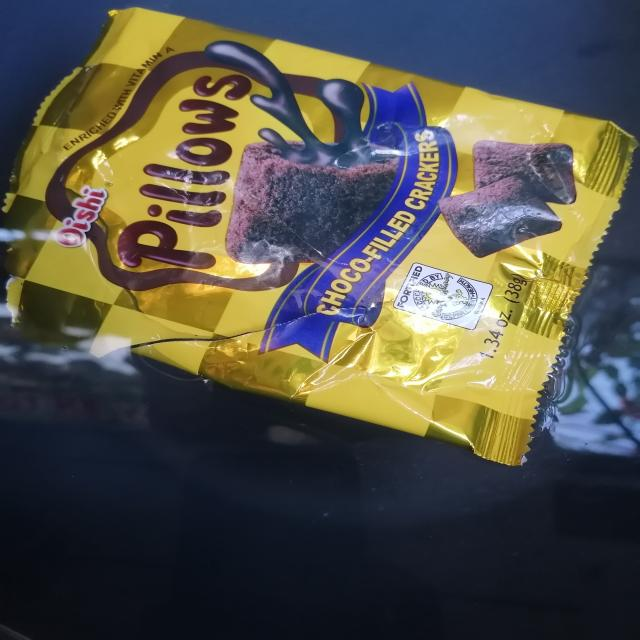Plastic Wrapper: (3, 8, 636, 465)
